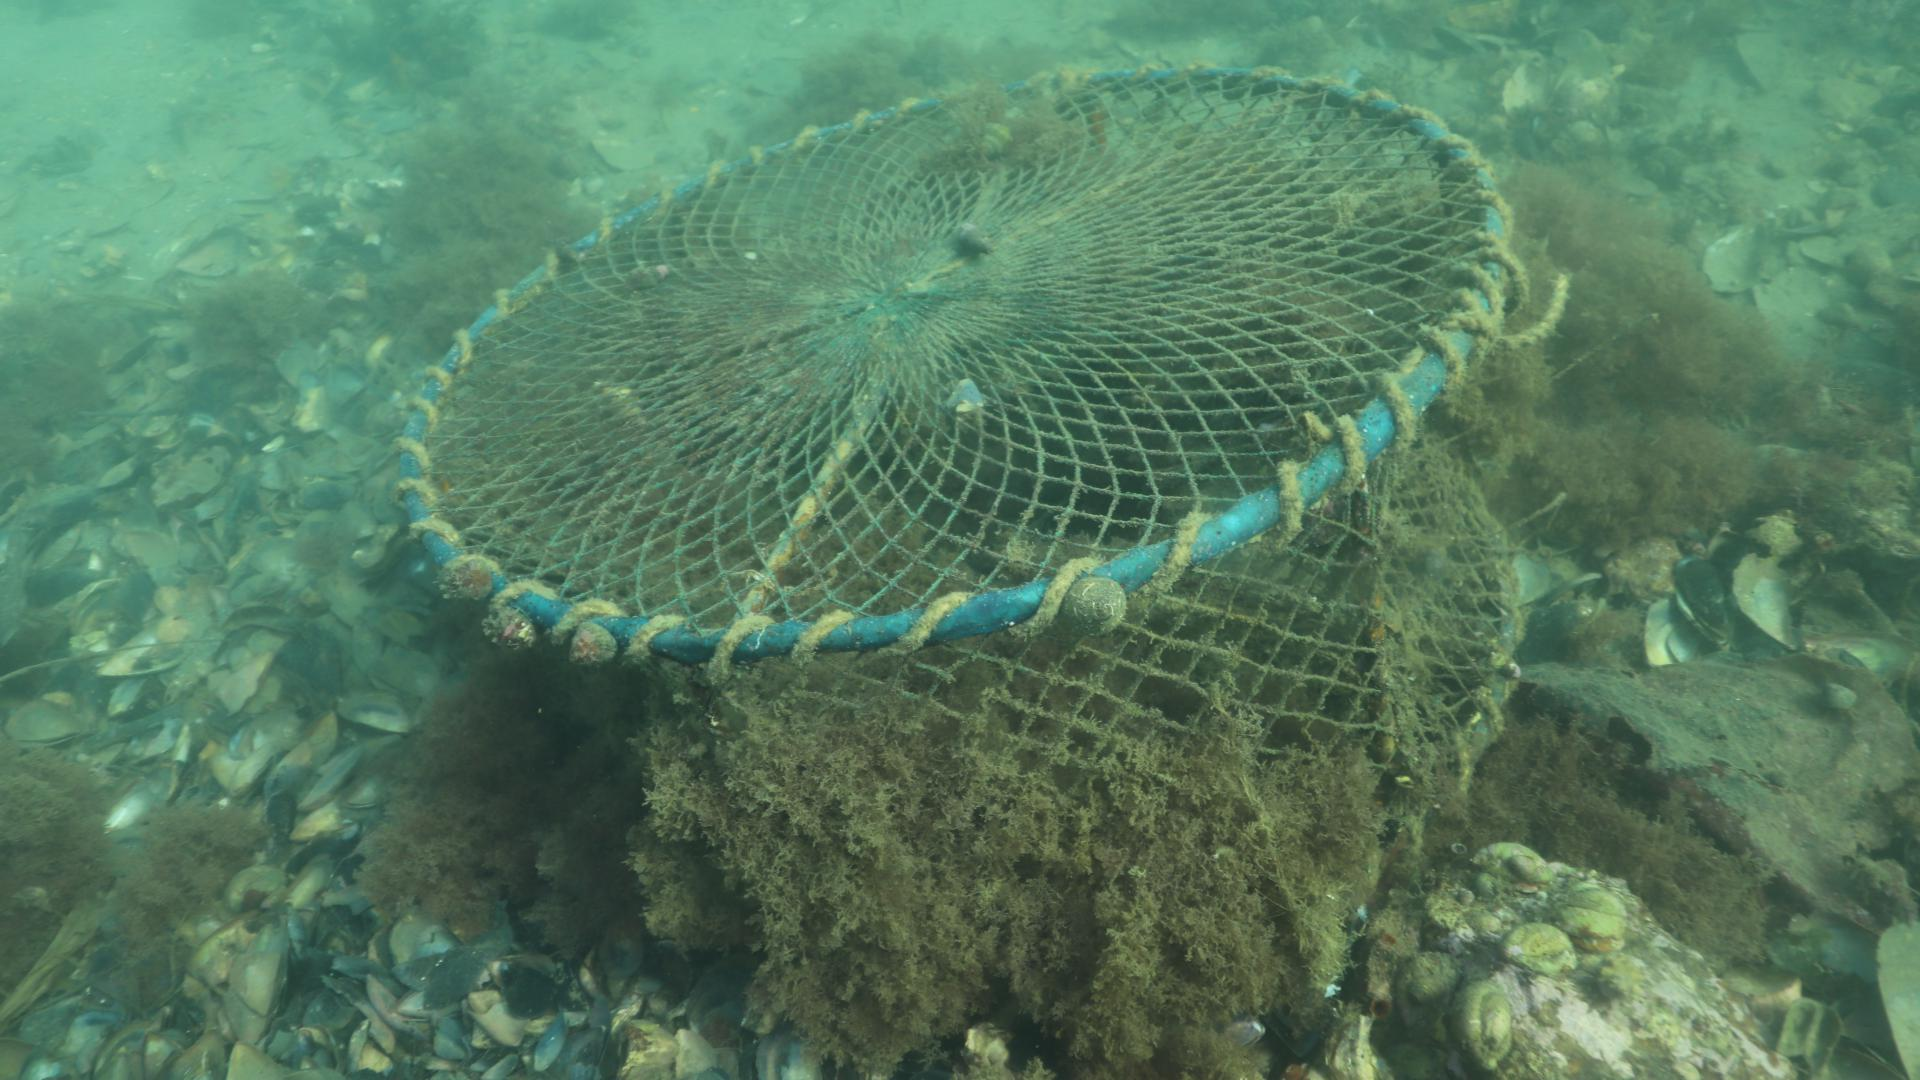circular fish trap: (401, 59, 1551, 822)
